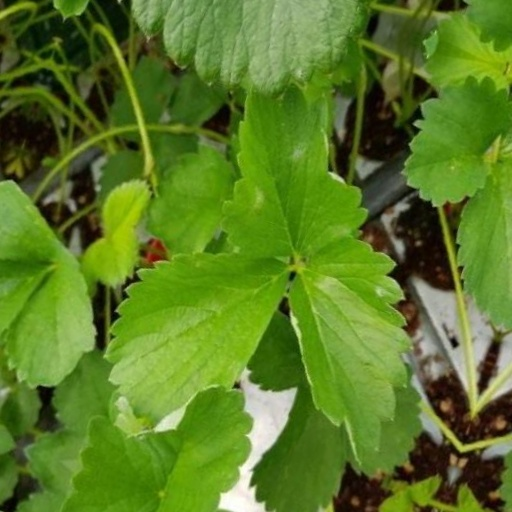Powdery Mildew Leaf: (296, 204, 442, 427), (197, 77, 351, 262), (148, 386, 312, 511)
